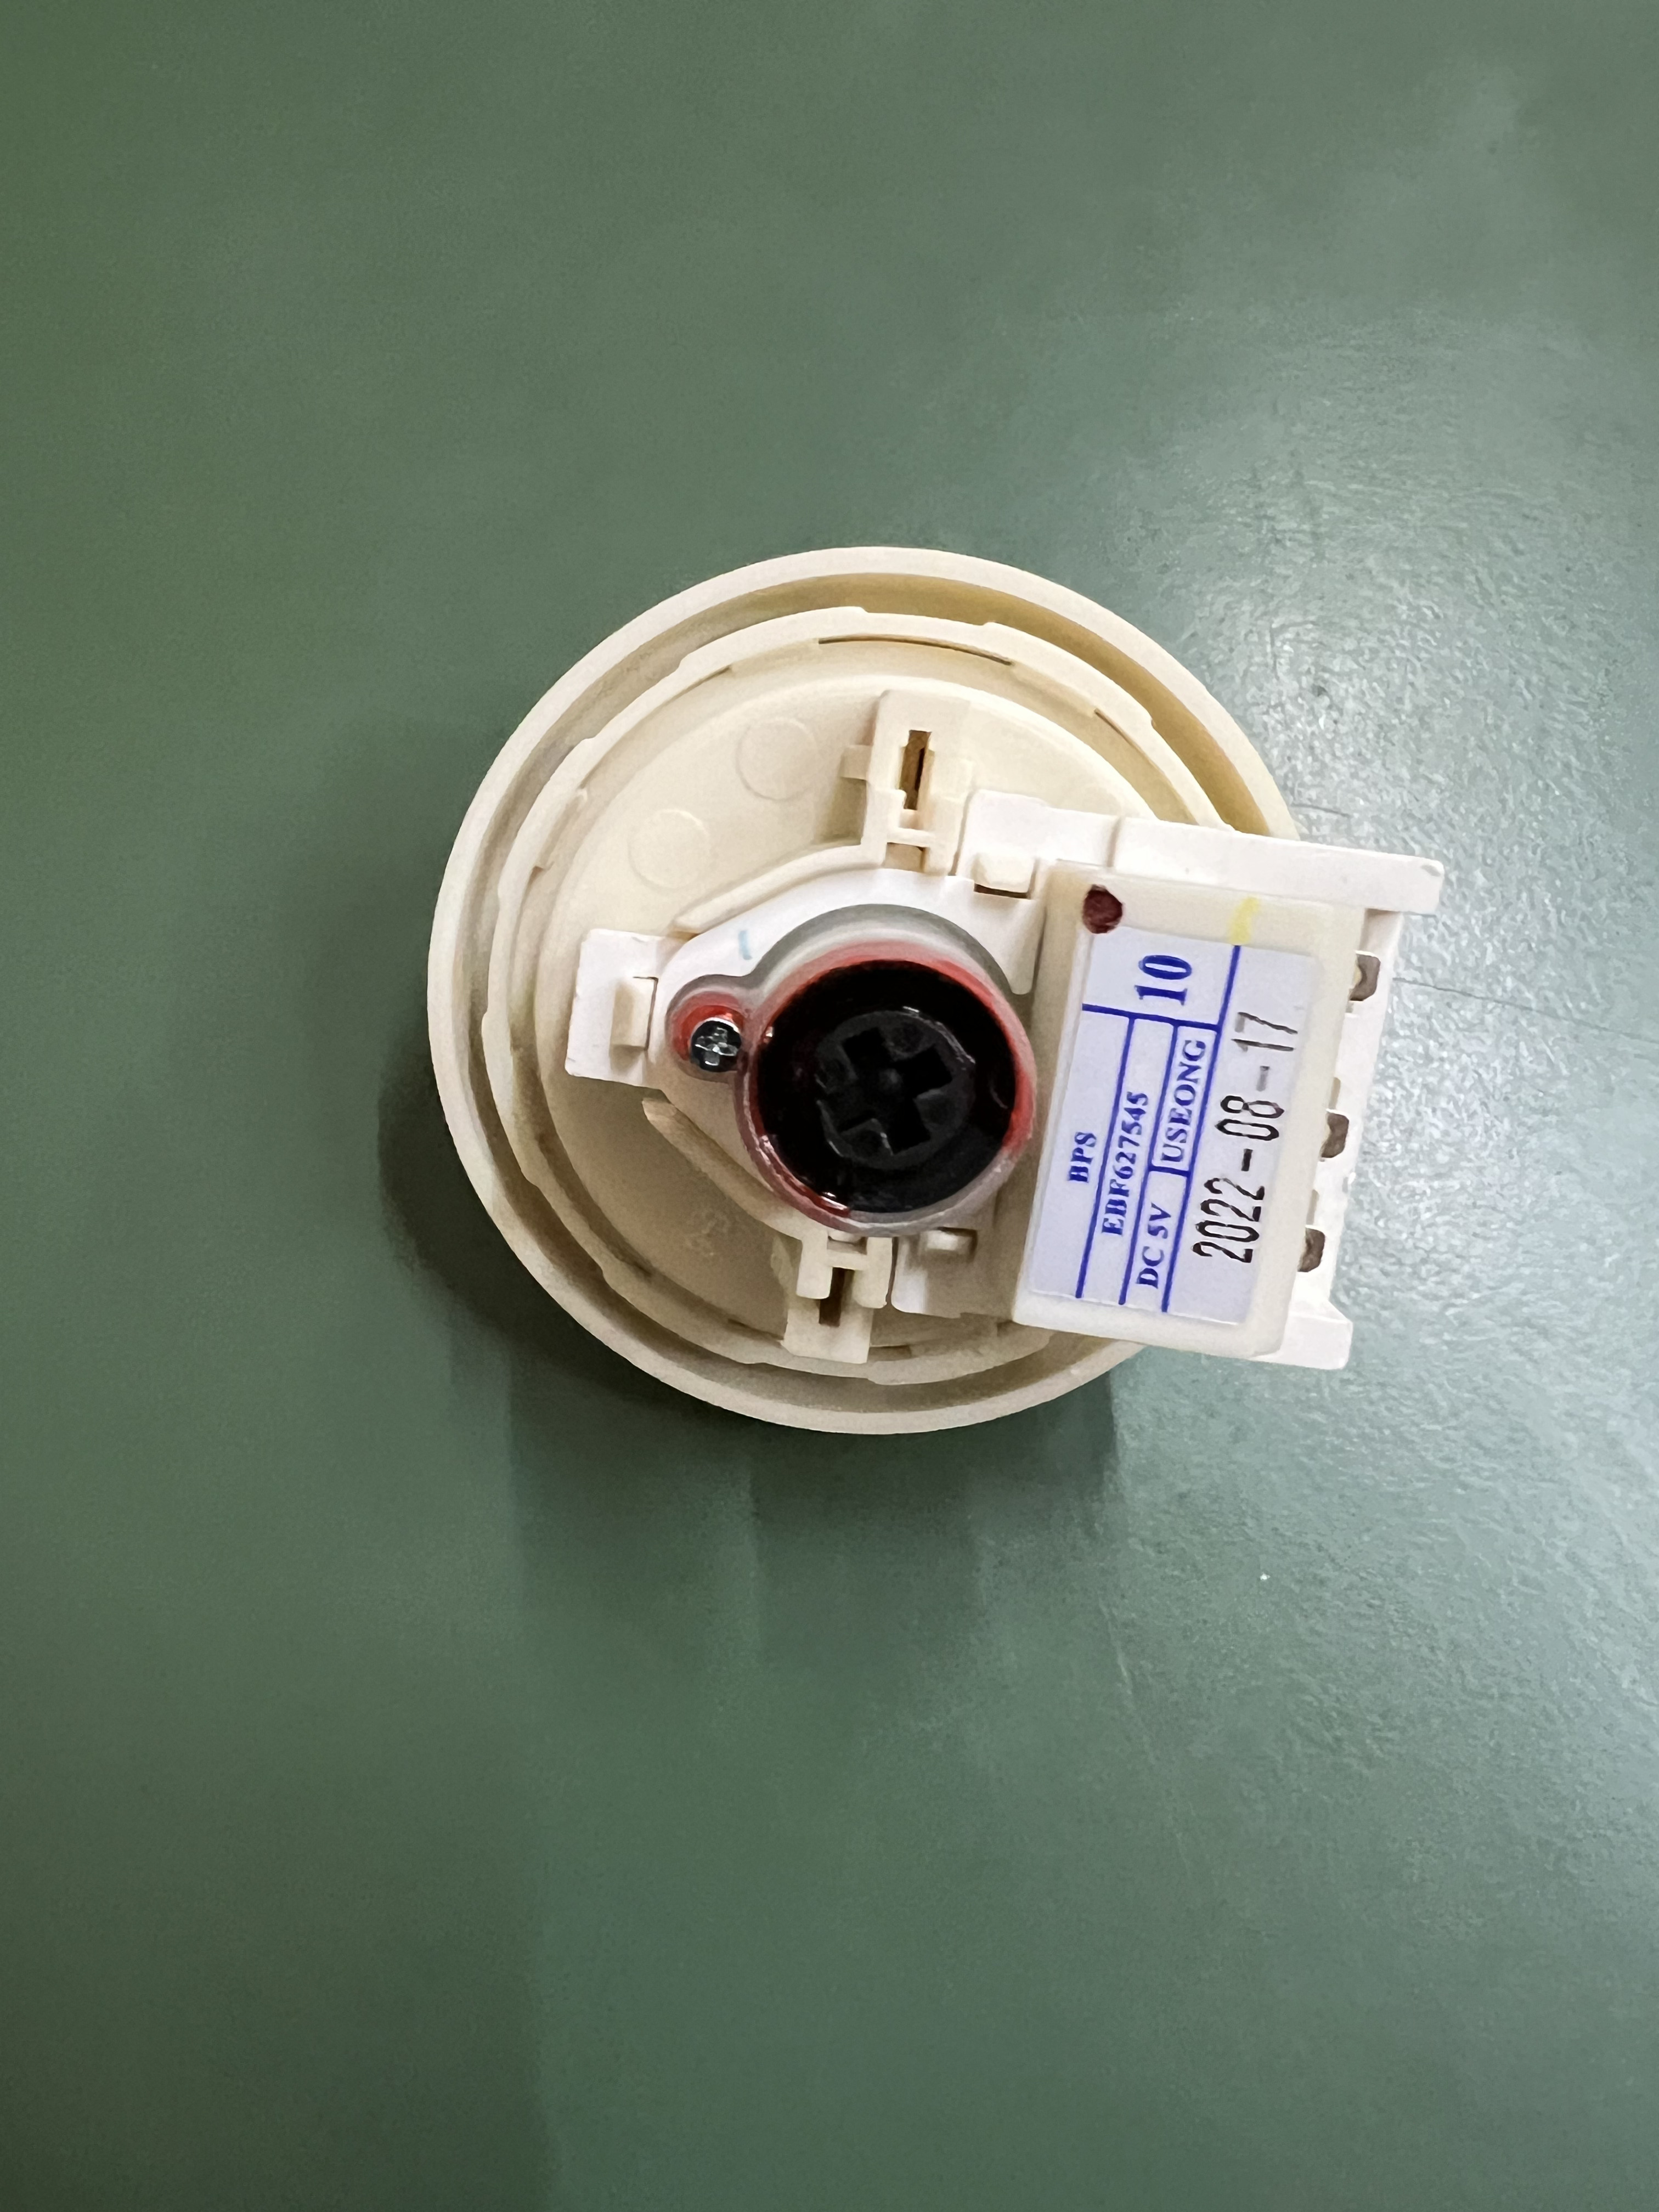pressure_sensor: (403, 538, 1464, 1484)
